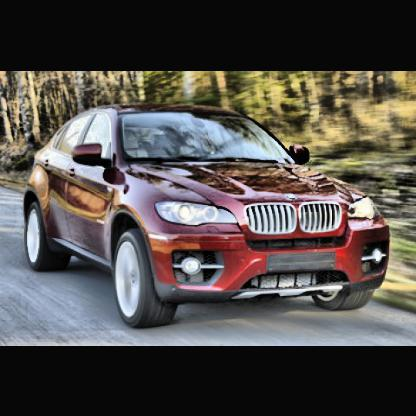BMW X6 SUV 2012: (20, 100, 395, 334)
